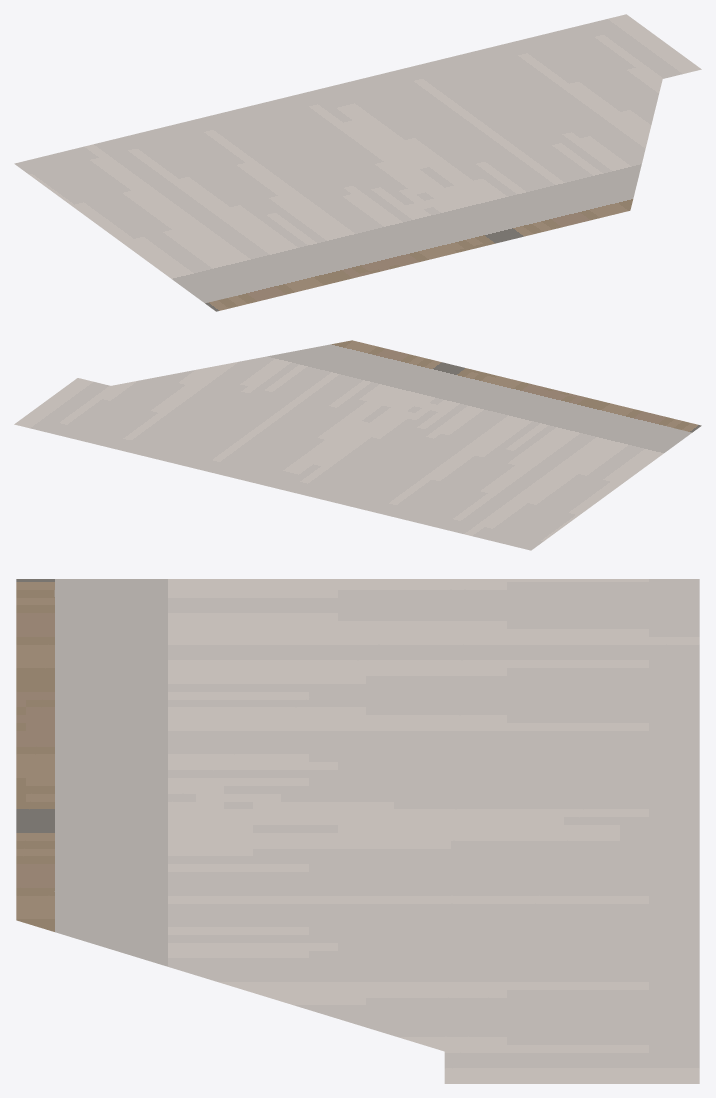
File: kd_stage_135c43_4_92_bounded_piece_0.glb
3 renders of one model, top to bottom at view 1: azimuth 30°, elevation 25°; view 2: azimuth 150°, elevation 25°; view 3: azimuth 270°, elevation 25°, orthographic. The views are drawn at different scales.
Visible parts, largest first — view 1: kd_stage_135c43_4_92_bounded_piece_0; view 2: kd_stage_135c43_4_92_bounded_piece_0; view 3: kd_stage_135c43_4_92_bounded_piece_0.
Part boxes in pixels (left/top/right/bottom): kd_stage_135c43_4_92_bounded_piece_0: left=14, top=14, right=701, bottom=311; kd_stage_135c43_4_92_bounded_piece_0: left=14, top=340, right=701, bottom=550; kd_stage_135c43_4_92_bounded_piece_0: left=16, top=579, right=699, bottom=1083.
Bounding box in the file's own units: 0.4684 × 5.96e-07 × 0.2679.
1 material, 1 textured.
